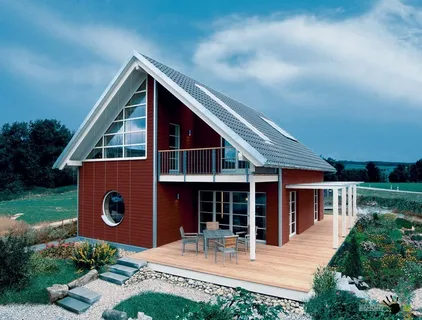private_hause: (73, 76, 339, 249)
